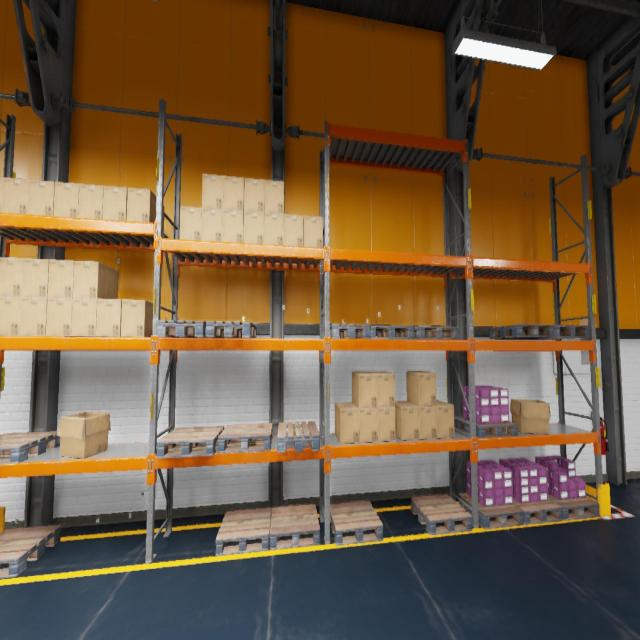box: (56, 411, 110, 459), (73, 260, 119, 298), (126, 187, 164, 231), (510, 399, 550, 434), (120, 298, 152, 336), (407, 401, 437, 439), (19, 297, 47, 336), (21, 258, 49, 297), (406, 371, 436, 406), (47, 259, 74, 297), (96, 298, 122, 337), (46, 297, 72, 336), (27, 179, 54, 216), (2, 177, 29, 214), (71, 298, 97, 336), (335, 403, 359, 443), (368, 372, 395, 407), (395, 401, 419, 440), (53, 182, 79, 218), (352, 372, 377, 408), (78, 183, 103, 219), (0, 257, 23, 296), (102, 186, 128, 220), (0, 296, 21, 336), (180, 206, 202, 240), (201, 208, 223, 241), (223, 176, 244, 210), (202, 174, 223, 208), (222, 210, 244, 242), (244, 177, 264, 212), (243, 211, 264, 244), (436, 401, 454, 438), (264, 212, 284, 245), (264, 180, 284, 213), (303, 215, 323, 247), (378, 407, 396, 442), (359, 408, 377, 442), (284, 214, 303, 246), (0, 176, 3, 212)
pallets: (0, 525, 61, 578), (215, 508, 271, 556), (411, 495, 472, 535), (458, 493, 524, 529), (330, 502, 383, 546), (270, 504, 320, 550), (156, 426, 224, 458), (0, 431, 60, 464), (218, 423, 272, 453), (277, 421, 320, 453), (511, 498, 563, 524), (548, 494, 599, 520), (455, 417, 518, 437), (489, 324, 554, 339), (206, 320, 256, 338), (526, 325, 590, 339), (156, 320, 206, 337), (371, 325, 414, 339), (413, 326, 459, 339), (330, 324, 370, 338)
